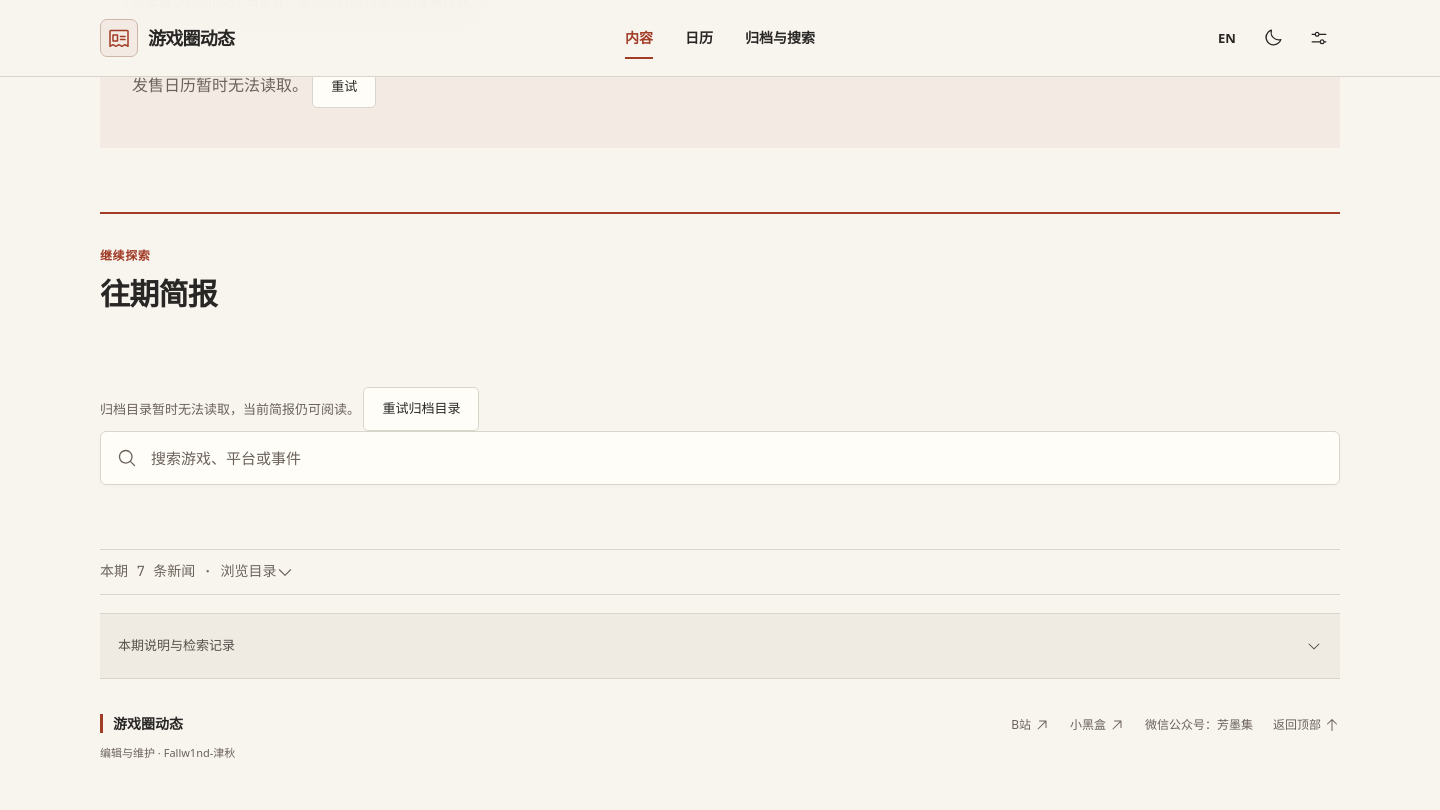
Scenario: ReadingApp request recovery › renders latest content despite manifest failure and retries only navigation
(page scrolled)
Click the button "重试归档目录" at (421, 408), box [363,386,479,430]
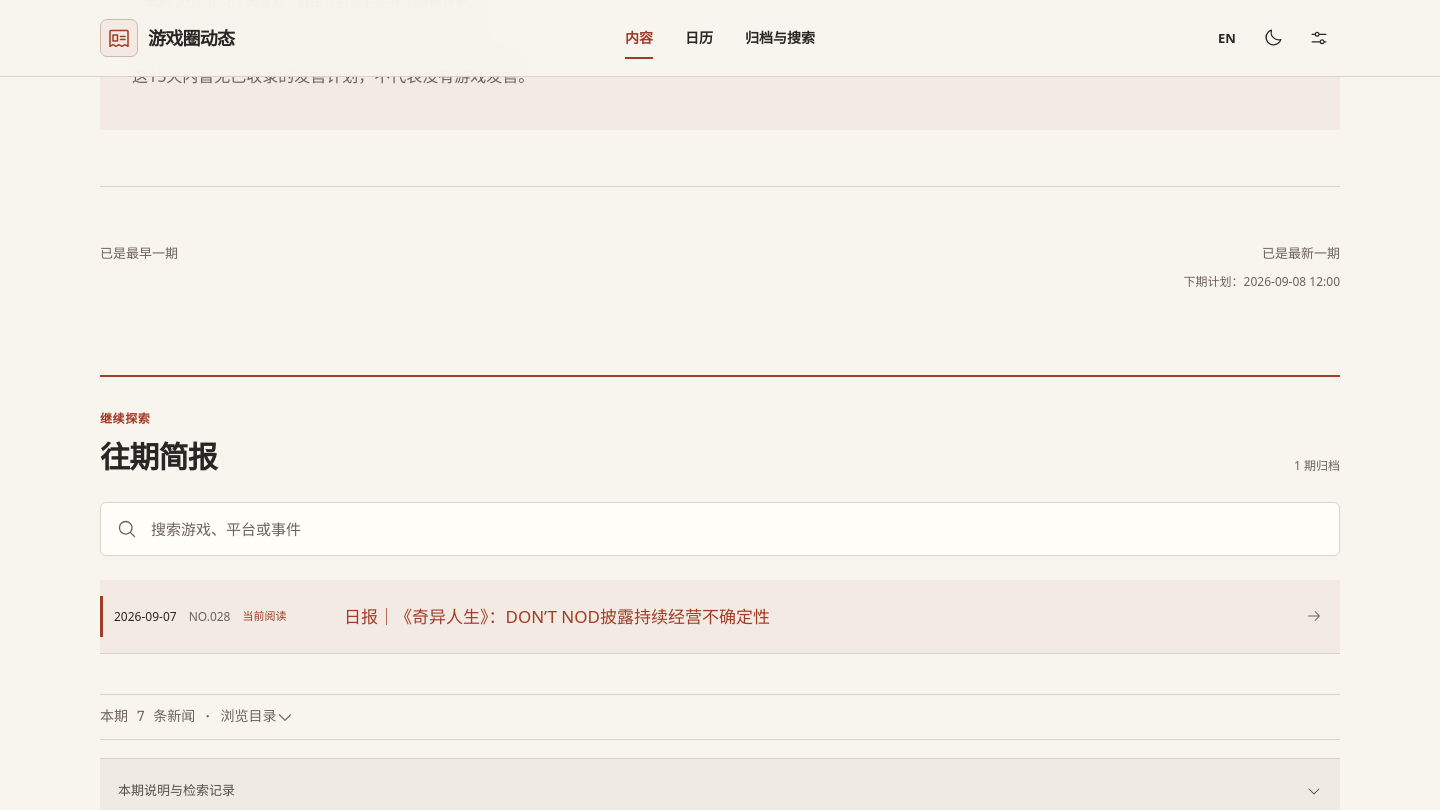
expect the link "2026-09-07 NO.028 当前阅读 日报｜《奇异人生》：DON’T NOD披露持续经营不确定性" is shown: met, box [100,580,1340,654]
